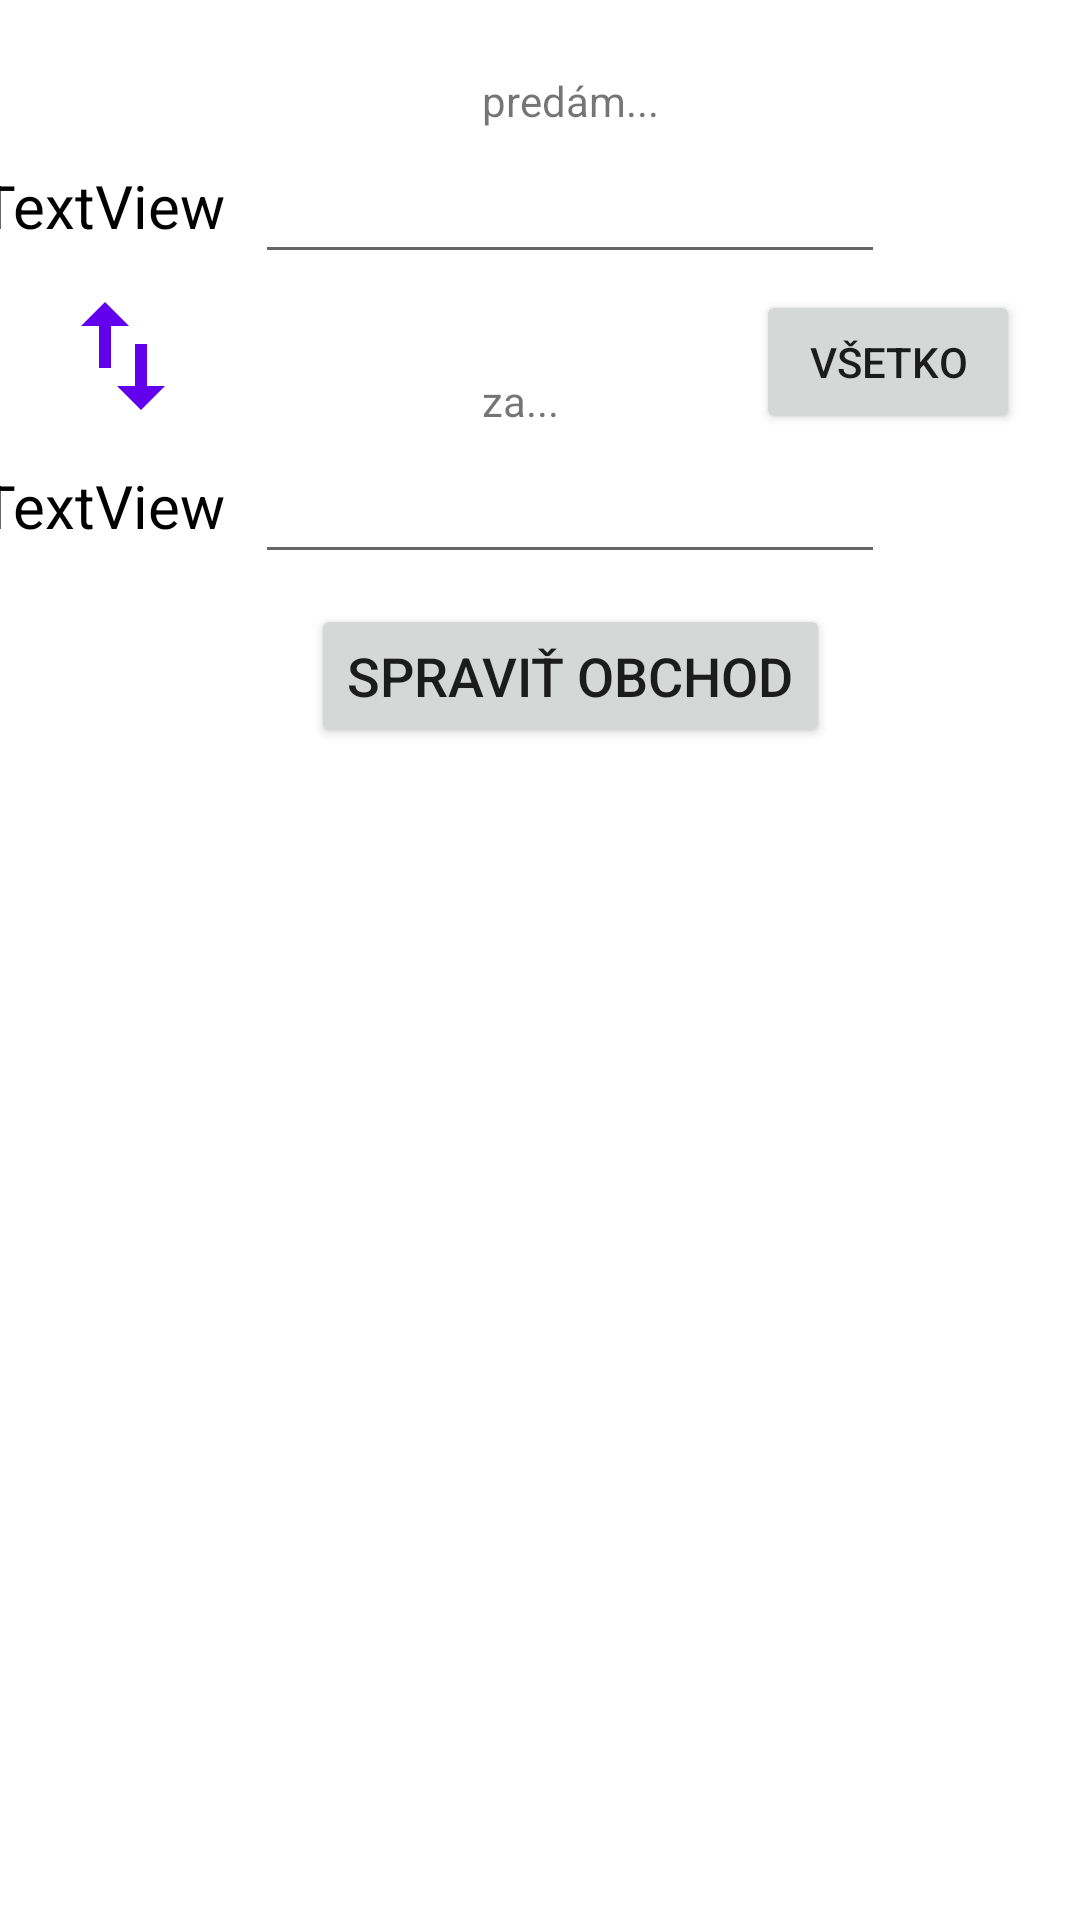

Named icons in this screenshot (1080 x 1920) and their bounding boxes, {"x1": x1, "y1": y1, "x2": x2, "y2": y2}:
swap vert: {"x1": 81, "y1": 302, "x2": 165, "y2": 410}
